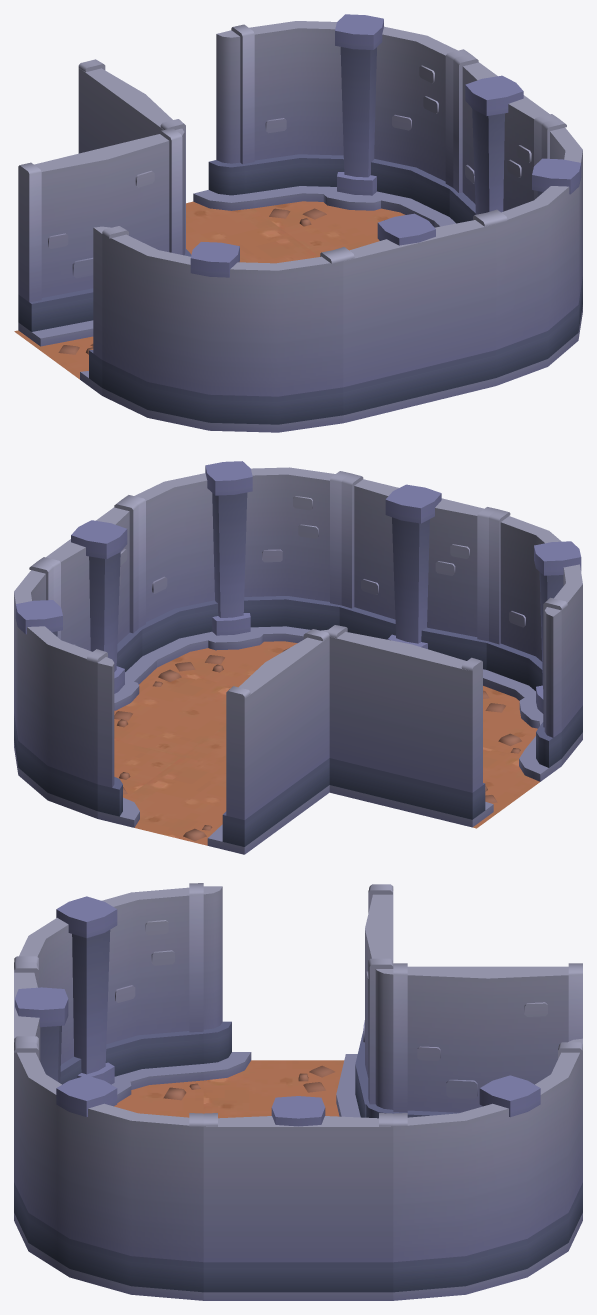
Rendered from kenney-modular-dungeon-room-corner.glb.
3 renders of one model, top to bottom at view 1: azimuth 30°, elevation 25°; view 2: azimuth 150°, elevation 25°; view 3: azimuth 270°, elevation 25°, orthographic. The views are drawn at different scales.
Visible parts, largest first — view 1: room-corner; view 2: room-corner; view 3: room-corner.
Boxes of the visible parts, left/top/right/bottom form: room-corner: left=14, top=14, right=582, bottom=432; room-corner: left=14, top=461, right=582, bottom=854; room-corner: left=14, top=883, right=582, bottom=1300.
Size of the model in its own units: 12 by 4.23 by 12.
Materials: 1 (1 with a texture image).
